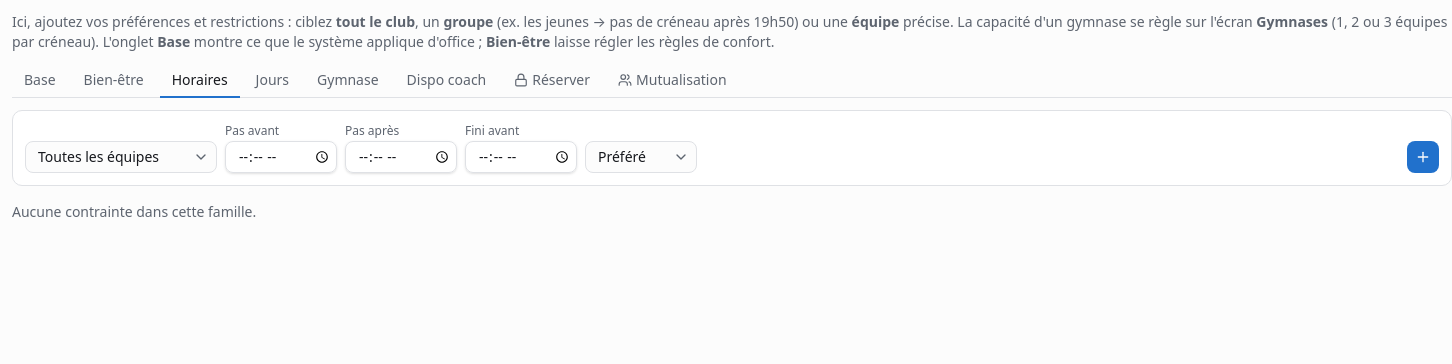
ConstraintsStep — constraint-matrix offer lock › groups gymnase constraints by VENUE (A→Z)
Click the button "Gymnase" at (348, 81), box [305,64,390,98]
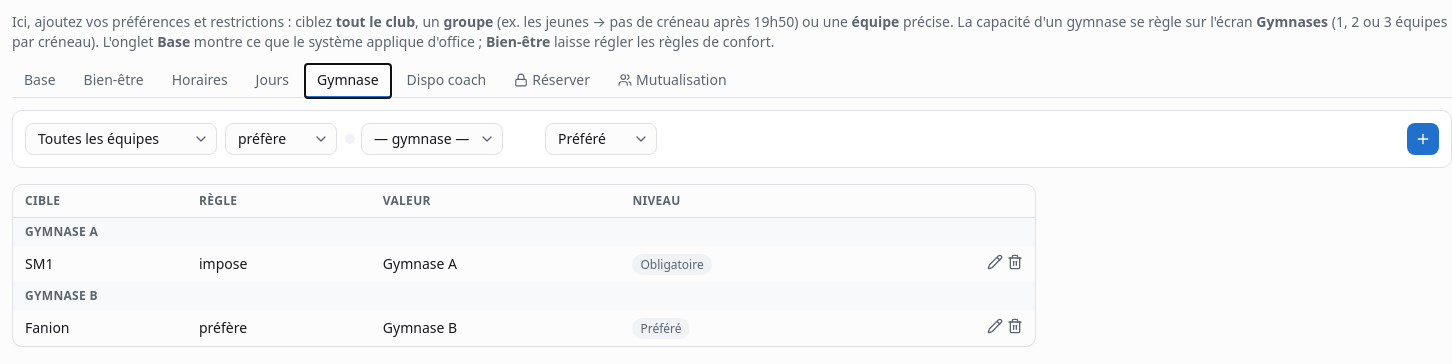
Now the elements with test id "constraint-section" read "Gymnase A", "Gymnase B", in this order, box [13,218,1035,246]; [13,282,1035,310]
